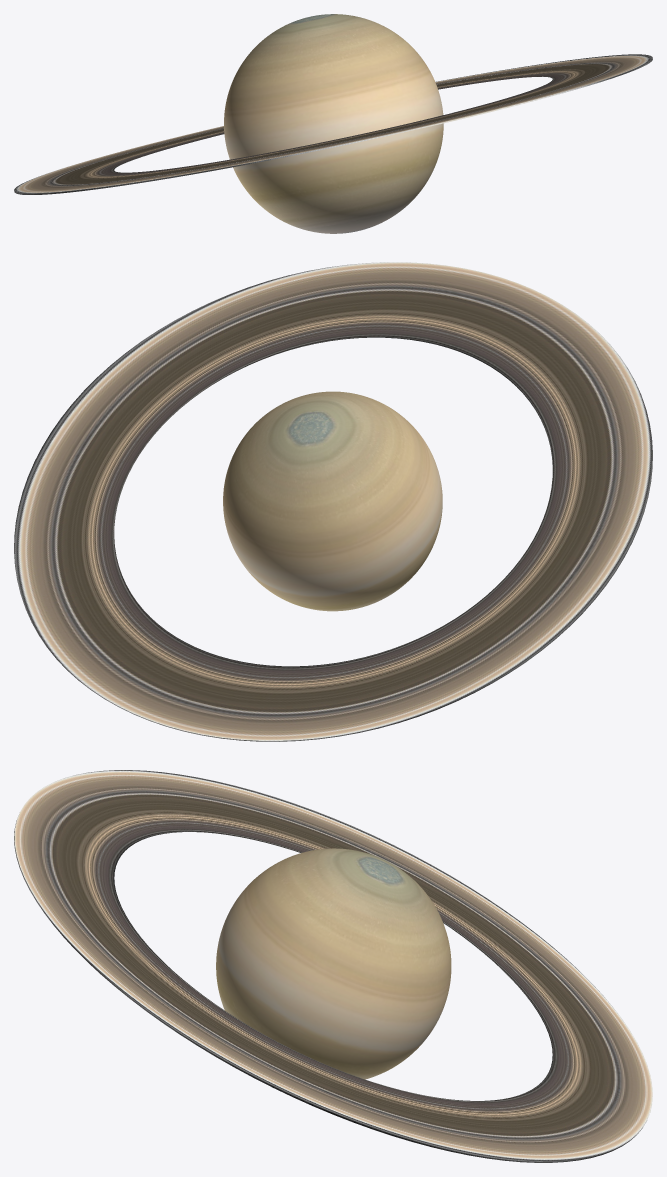
3 renders of one model, top to bottom at view 1: azimuth 30°, elevation 25°; view 2: azimuth 150°, elevation 25°; view 3: azimuth 270°, elevation 25°, orthographic. The views are drawn at different scales.
Parts seen in each view (by area): view 1: Saturn_2; view 2: Saturn_2; view 3: Saturn_2.
Boxes of the visible parts, x1,y1,x2,y2 form: Saturn_2: (14, 14, 652, 233); Saturn_2: (14, 262, 652, 741); Saturn_2: (14, 770, 652, 1162).
Bounding box in the file's own units: 1.89 × 0.7719 × 1.73.
Materials: 2 (2 with a texture image).
